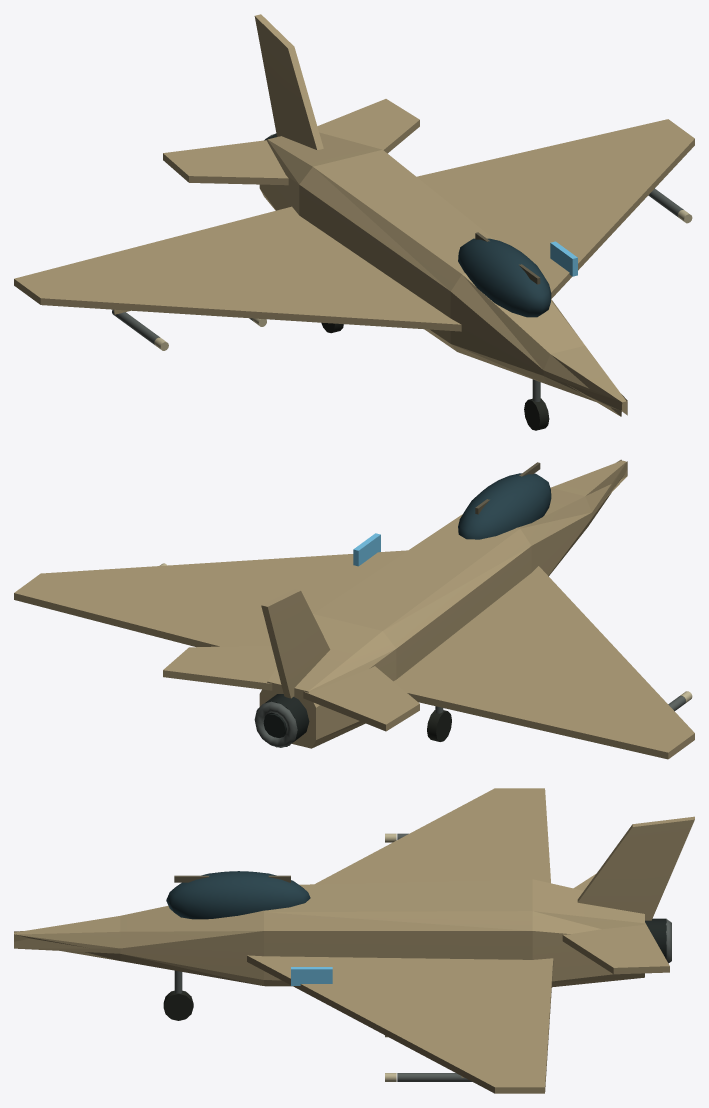
File: attackAircraft.glb
The picture shows the model from 3 angles, top to bottom: view 1: azimuth 30°, elevation 25°; view 2: azimuth 150°, elevation 25°; view 3: azimuth 270°, elevation 25°; orthographic projection. The views are drawn at different scales.
Visible parts, largest first — view 1: armor, glass, equipment (×2); view 2: armor, glass, equipment (×2), marking; view 3: armor, glass, equipment (×2), marking.
Boxes of the visible parts, x1,y1,x2,y2 form: armor: (14, 14, 694, 416); glass: (458, 238, 551, 317); equipment (×2): (112, 133, 692, 430); armor: (14, 459, 694, 759); glass: (458, 473, 551, 539); equipment (×2): (159, 462, 692, 747); marking: (353, 533, 380, 566); armor: (14, 788, 694, 1093); glass: (166, 871, 310, 919); equipment (×2): (163, 833, 671, 1081); marking: (291, 967, 332, 985).
Size of the model in its own units: 8.5 by 2.64 by 8.17.
